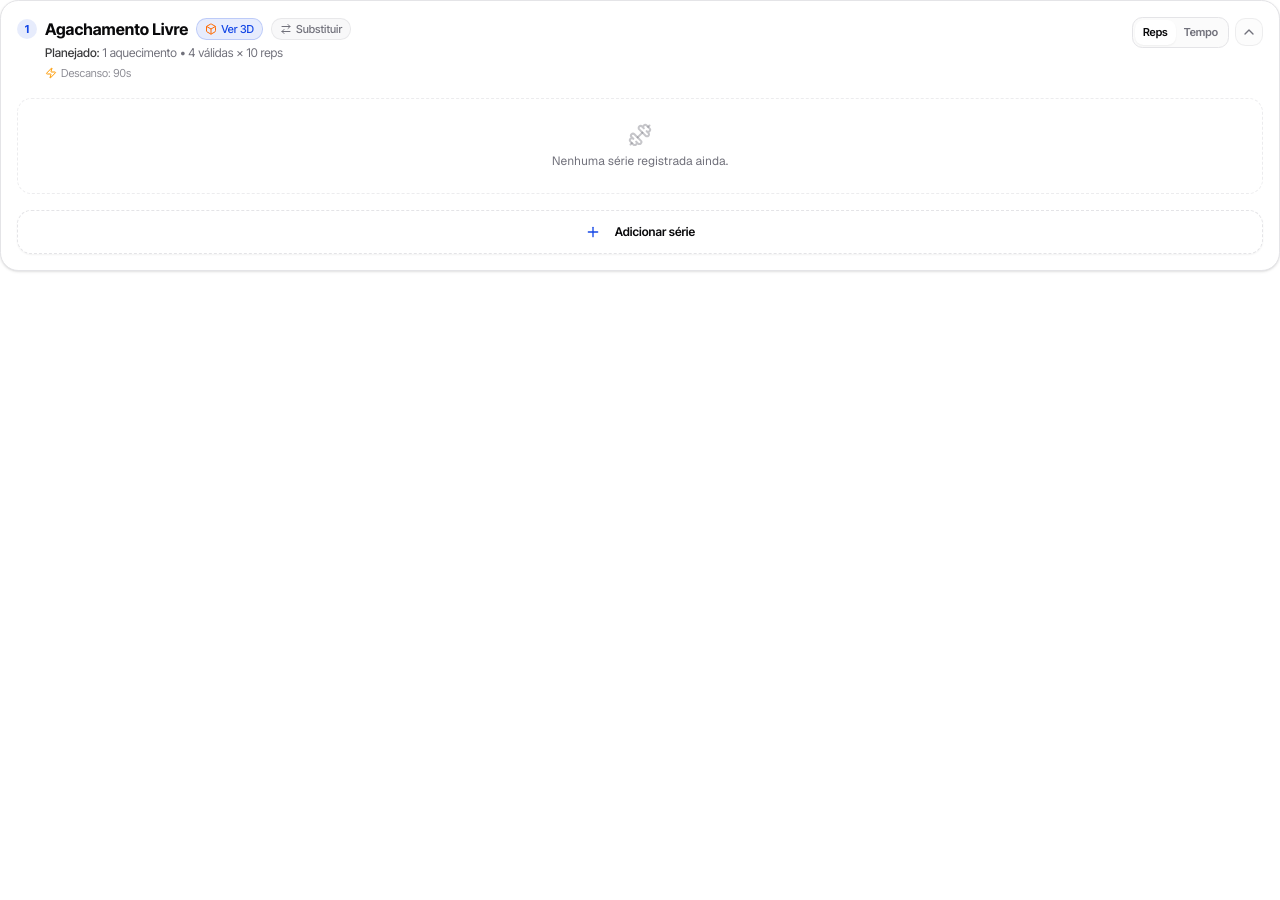
Test: Task 6.4 — Substituição de Exercícios na Sessão de Treino › UI: SessionExerciseCard e Modal de Substituição › abre o modal com as alternativas sugeridas ao clicar em 'Substituir'
What coordinates should you click on to do the following:
click the button "Substituir"
I would click on:
 (311, 29)
Its box is [271,18,351,40].
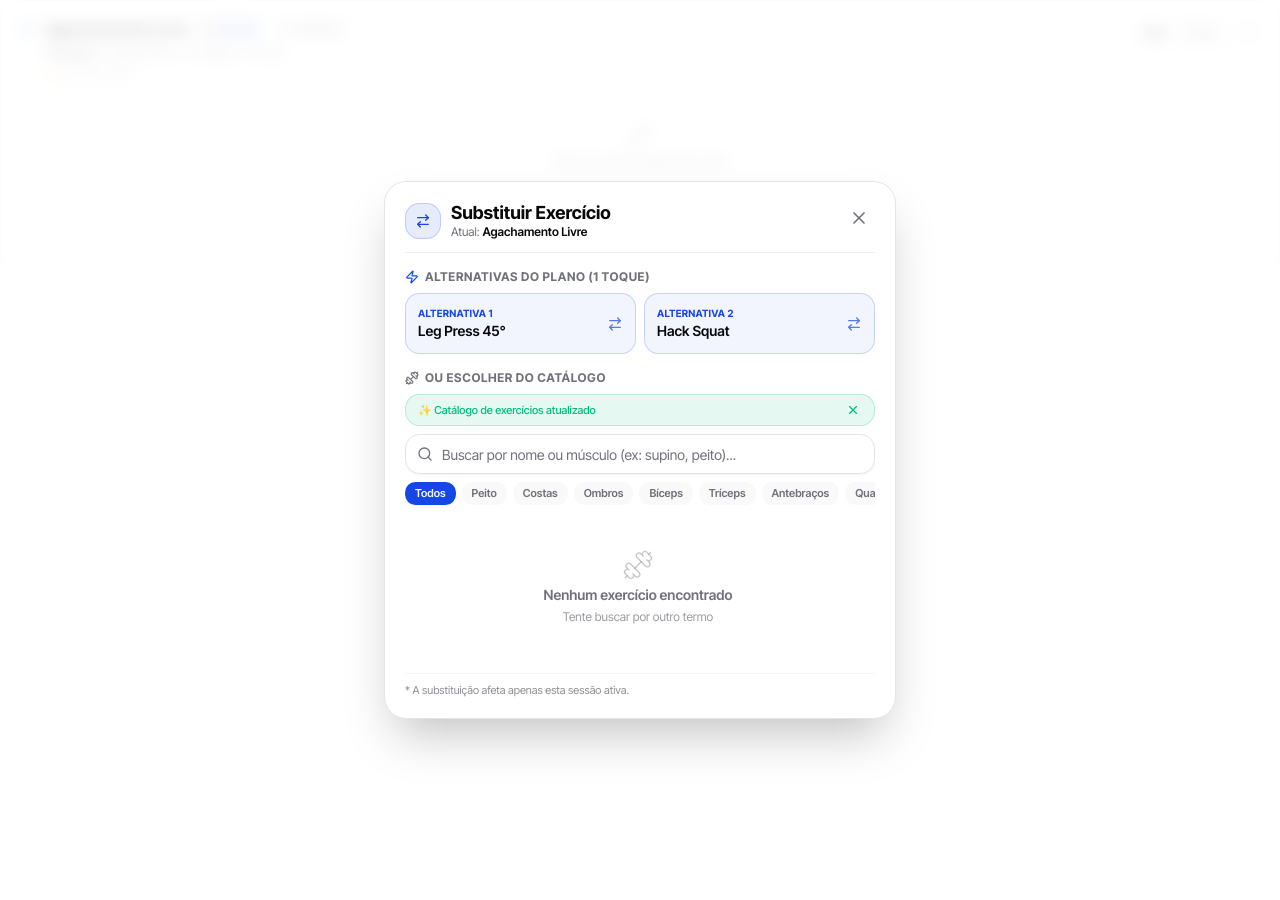
Check: the heading "Substituir Exercício" is shown, box [451,202,611,224]
Check: the text "Leg Press 45°" is shown, box [418,321,506,341]
Check: the text "Hack Squat" is shown, box [657,321,734,341]
